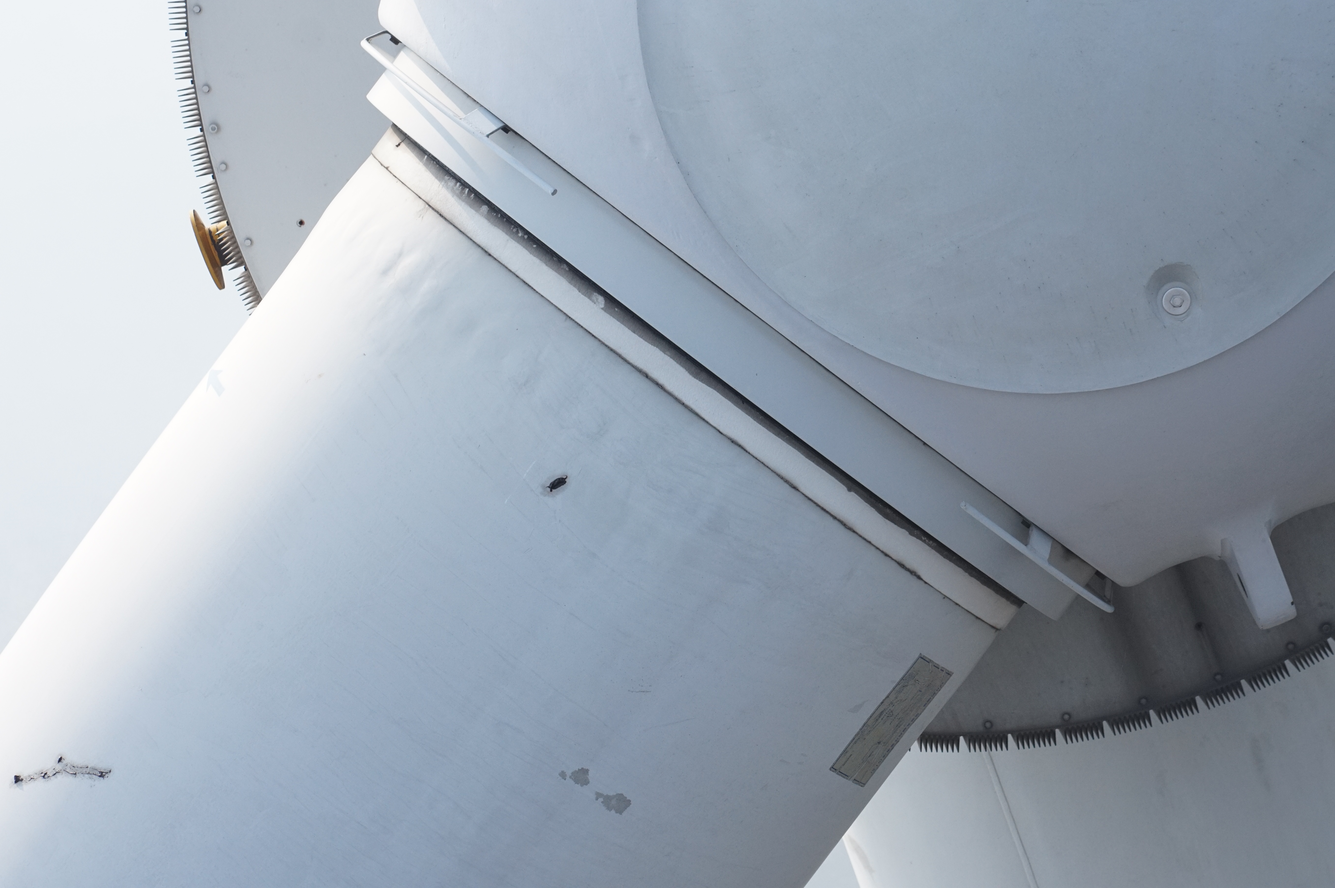Dirt: (11, 752, 117, 785), (547, 477, 568, 491)
